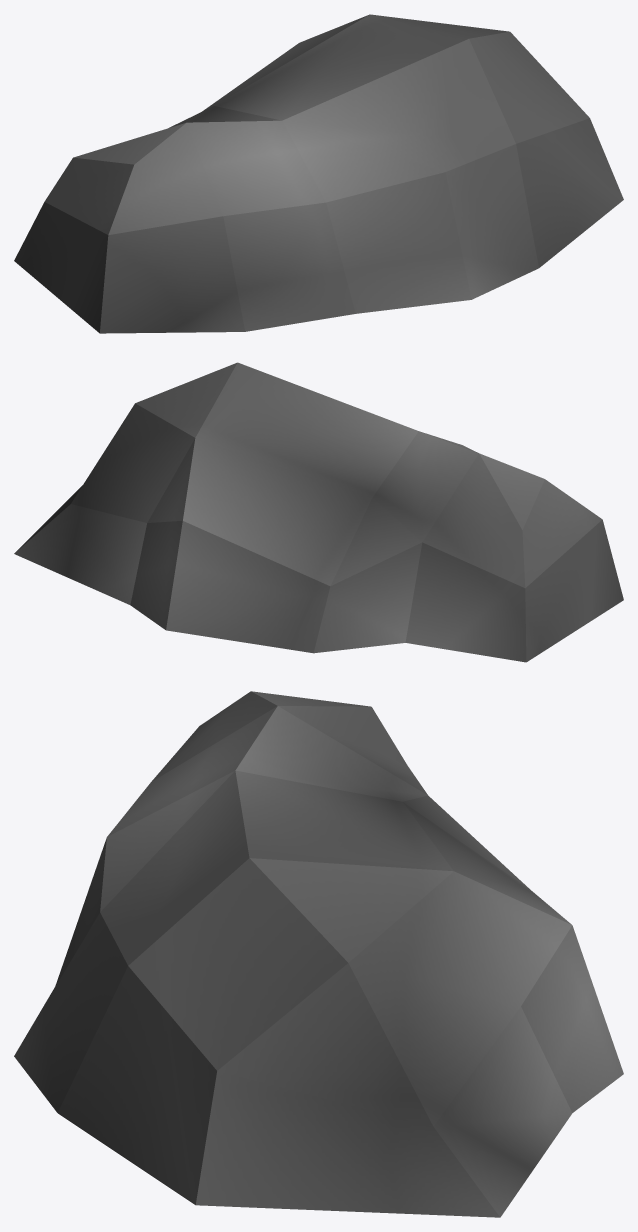
The model's file is rock_01.fbx.
3 views of the same model, one above another, from view 1: azimuth 30°, elevation 25°; view 2: azimuth 150°, elevation 25°; view 3: azimuth 270°, elevation 25° (orthographic). The views are drawn at different scales.
Parts seen in each view (by area): view 1: Cube; view 2: Cube; view 3: Cube.
Boxes of the visible parts, x1,y1,x2,y2 form: Cube: (14, 14, 623, 333); Cube: (14, 362, 623, 662); Cube: (14, 691, 623, 1217).
Bounding box in the file's own units: 866 × 272 × 592.
1 material, 1 textured.
